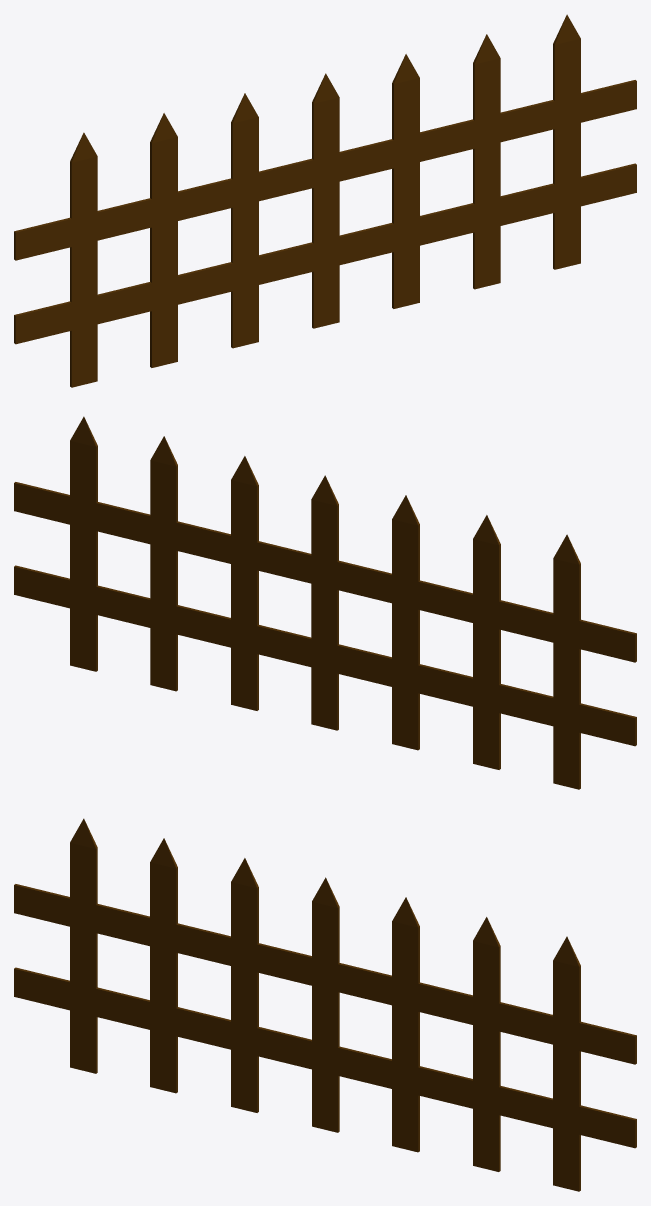
File: LP_Fence.fbx
The picture shows the model from 3 angles, top to bottom: view 1: azimuth 30°, elevation 25°; view 2: azimuth 150°, elevation 25°; view 3: azimuth 330°, elevation 25°; orthographic projection.
Visible parts, largest first — view 1: Fence; view 2: Fence; view 3: Fence.
Boxes of the visible parts, <box> form: Fence: <box>14,14,636,387</box>; Fence: <box>14,416,636,789</box>; Fence: <box>14,818,636,1191</box>.
Size of the model in its own units: 6938 by 2688 by 33.33.
